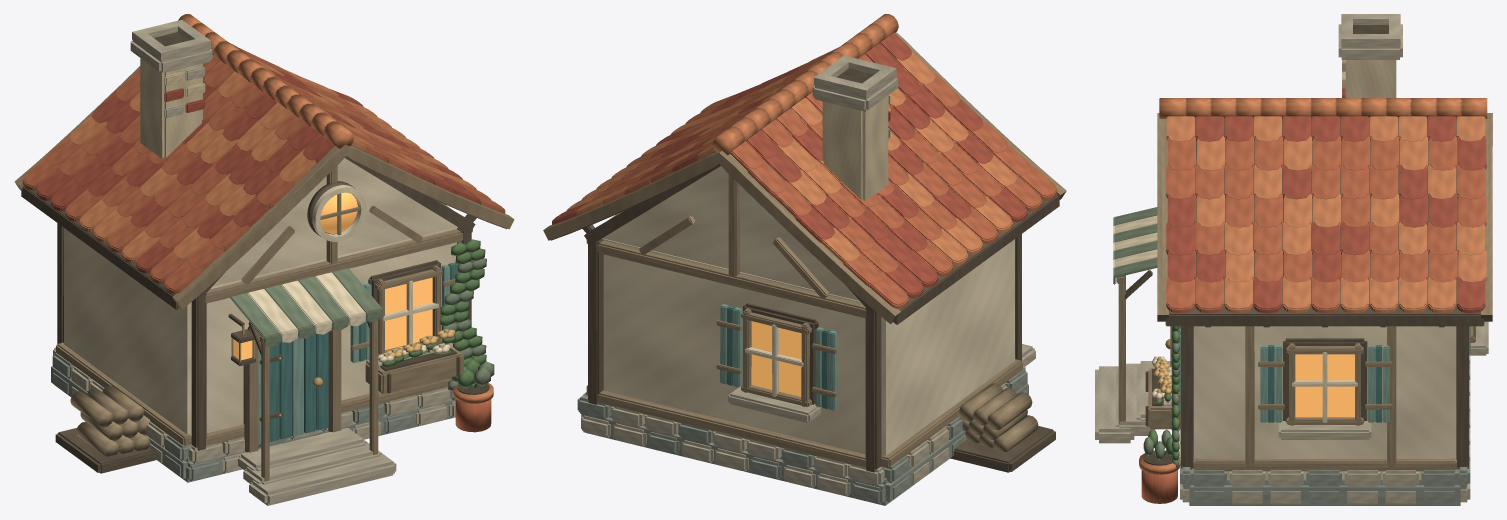
The model's file is hearthfield-cottage.glb.
3 renders of one model, left to right at view 1: azimuth 30°, elevation 25°; view 2: azimuth 150°, elevation 25°; view 3: azimuth 270°, elevation 25°, orthographic. The views are drawn at different scales.
Visible parts, largest first — view 1: Hearthfield_Cottage; view 2: Hearthfield_Cottage; view 3: Hearthfield_Cottage.
Boxes of the visible parts, x1=… form: Hearthfield_Cottage: x1=14, y1=14, x2=514, y2=505; Hearthfield_Cottage: x1=543, y1=14, x2=1066, y2=505; Hearthfield_Cottage: x1=1095, y1=14, x2=1492, y2=505.
Size of the model in its own units: 5.27 by 4.93 by 4.77.
2 materials, 1 textured.
